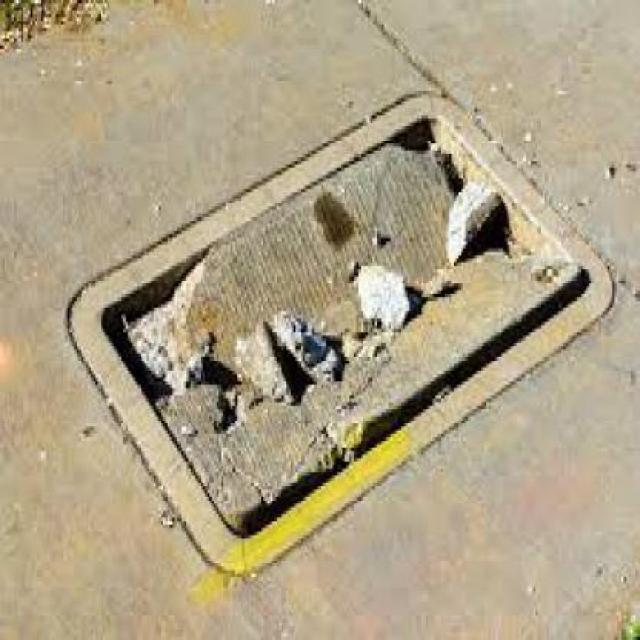Manhole: (71, 89, 620, 563)
